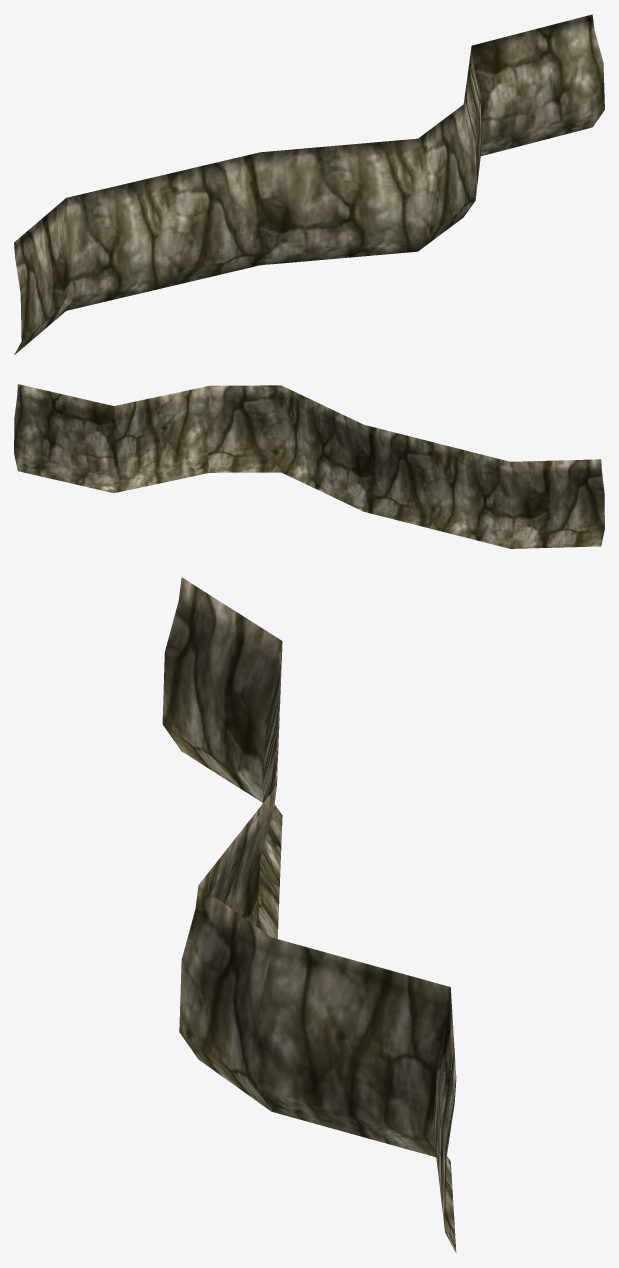
The model's file is CB_NEWPLAYSURFACE_CB_PLAYSURFACE140.fbx.
The picture shows the model from 3 angles, top to bottom: view 1: azimuth 30°, elevation 25°; view 2: azimuth 150°, elevation 25°; view 3: azimuth 270°, elevation 25°; orthographic projection. The views are drawn at different scales.
Visible parts, largest first — view 1: CB_NEWPLAYSURFACE_CB_PLAYSURFACE140; view 2: CB_NEWPLAYSURFACE_CB_PLAYSURFACE140; view 3: CB_NEWPLAYSURFACE_CB_PLAYSURFACE140.
Part boxes in pixels (left/top/right/bottom): CB_NEWPLAYSURFACE_CB_PLAYSURFACE140: left=14, top=14, right=604, bottom=354; CB_NEWPLAYSURFACE_CB_PLAYSURFACE140: left=14, top=384, right=604, bottom=548; CB_NEWPLAYSURFACE_CB_PLAYSURFACE140: left=162, top=577, right=456, bottom=1252.
Bounding box in the file's own units: 250469 × 40000 × 61115.
Materials: 1 (1 with a texture image).
